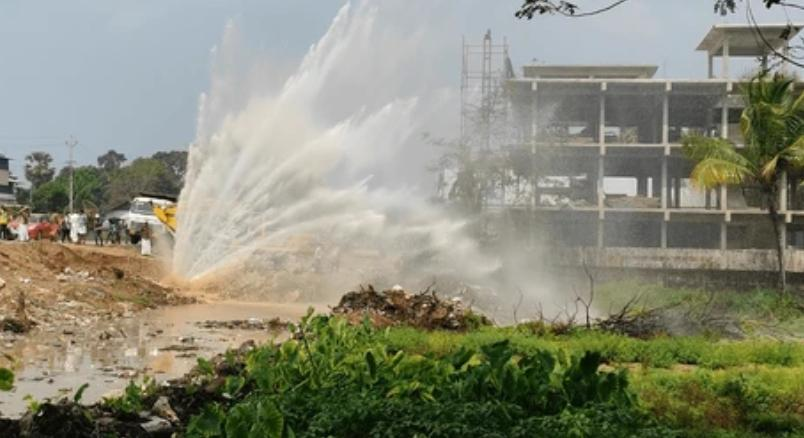pipe burst: (171, 0, 533, 294)
water accumulation: (0, 297, 358, 417)
